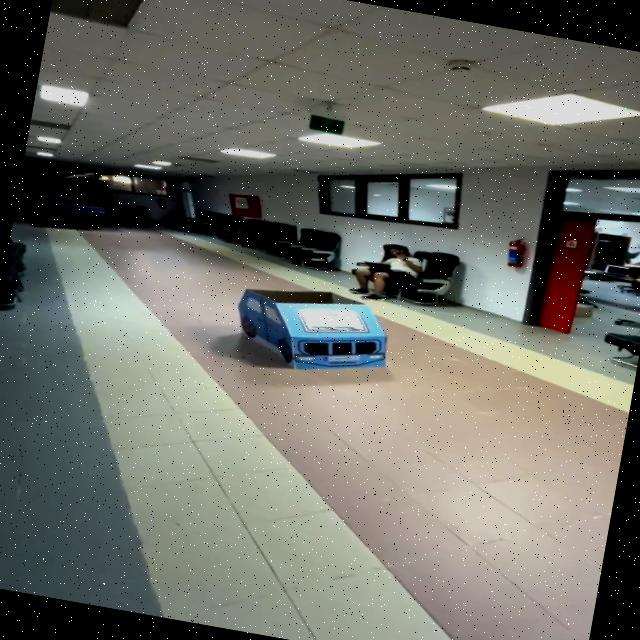blue_car: (183, 263, 422, 403)
